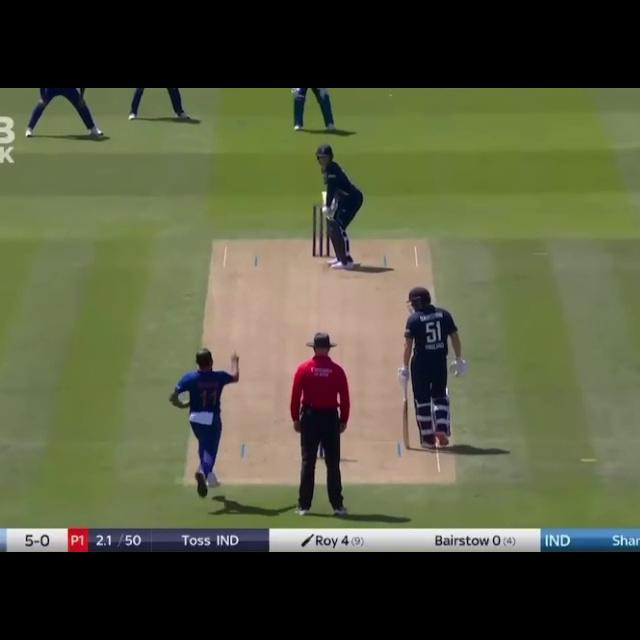umpire: (282, 322, 357, 525)
